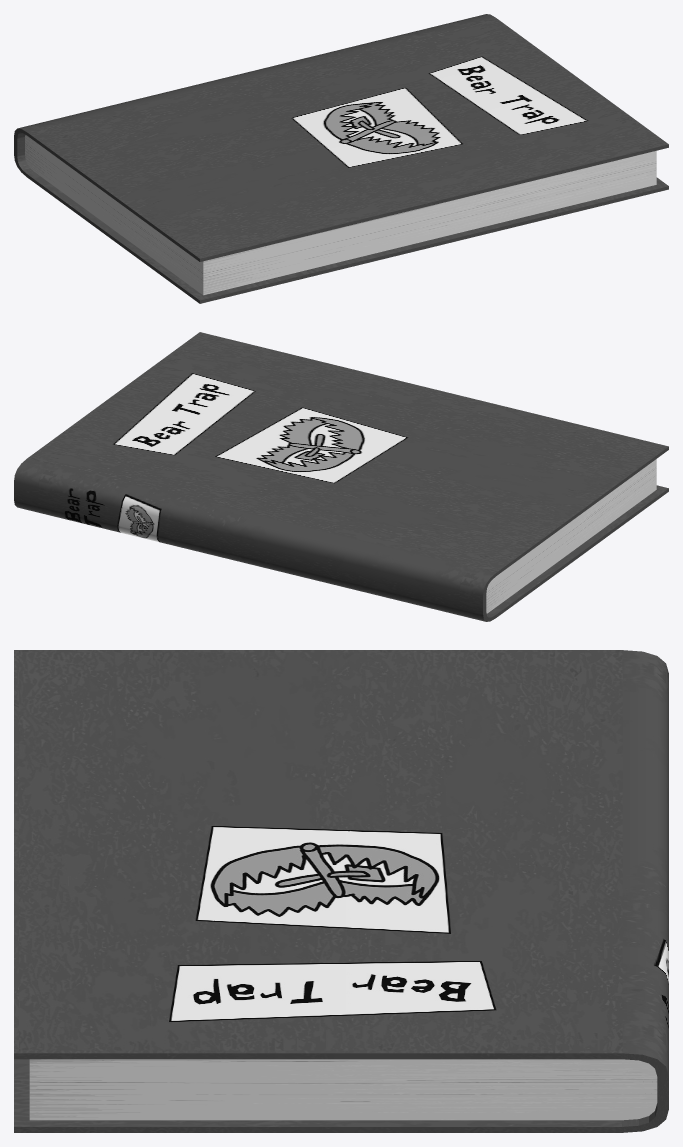
File: book 3.fbx
3 views of the same model, one above another, from view 1: azimuth 30°, elevation 25°; view 2: azimuth 150°, elevation 25°; view 3: azimuth 270°, elevation 25° (orthographic). The views are drawn at different scales.
Visible parts, largest first — view 1: Box001; view 2: Box001; view 3: Box001.
Part boxes in pixels (x1,y1,x2,y2): Box001: (14,14,668,303); Box001: (14,332,668,621); Box001: (14,650,668,1132).
Bounding box in the file's own units: 56.35 × 5.18 × 38.68.
